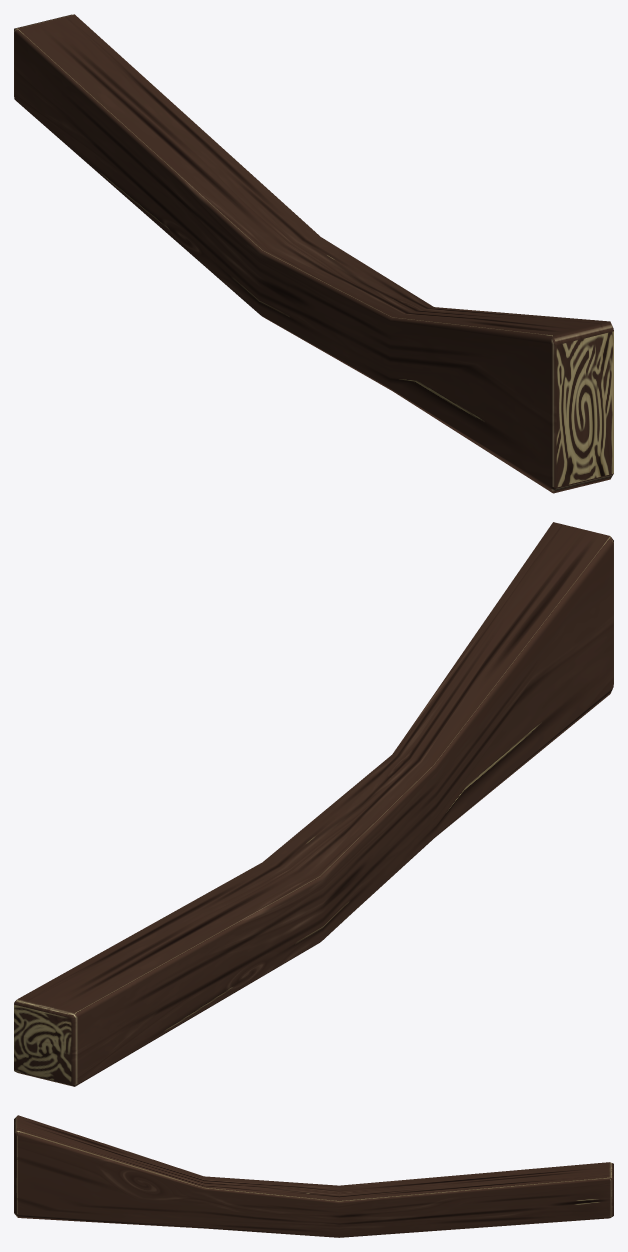
The model's file is Beam_Roof.fbx.
3 renders of one model, top to bottom at view 1: azimuth 30°, elevation 25°; view 2: azimuth 150°, elevation 25°; view 3: azimuth 270°, elevation 25°, orthographic. The views are drawn at different scales.
Visible parts, largest first — view 1: Beam_Lar; view 2: Beam_Lar; view 3: Beam_Lar.
Boxes of the visible parts, bbox=[...] form: Beam_Lar: bbox=[14, 14, 613, 493]; Beam_Lar: bbox=[14, 522, 613, 1086]; Beam_Lar: bbox=[14, 1115, 613, 1237].
Size of the model in its own units: 42.78 by 125 by 632.
